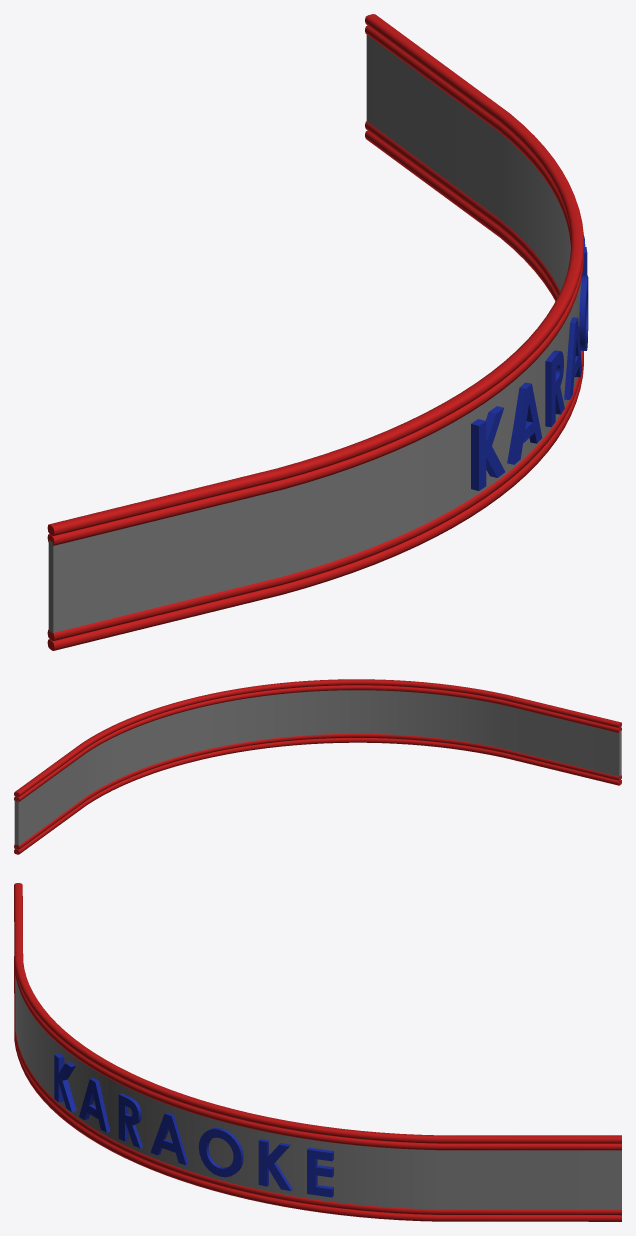
The model's file is SM_signboard_karaoke2.fbx.
3 renders of one model, top to bottom at view 1: azimuth 30°, elevation 25°; view 2: azimuth 150°, elevation 25°; view 3: azimuth 270°, elevation 25°, orthographic. The views are drawn at different scales.
Visible parts, largest first — view 1: Object1284665; view 2: Object1284665; view 3: Object1284665.
Part boxes in pixels (<box>): Object1284665: <box>47,14,588,650</box>; Object1284665: <box>14,679,621,854</box>; Object1284665: <box>14,883,621,1221</box>.
Bounding box in the file's own units: 314 × 48.47 × 316.
